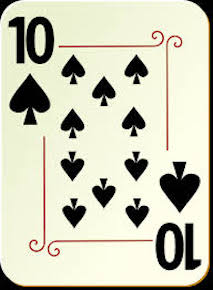TenOfSpades: (1, 2, 212, 290)
